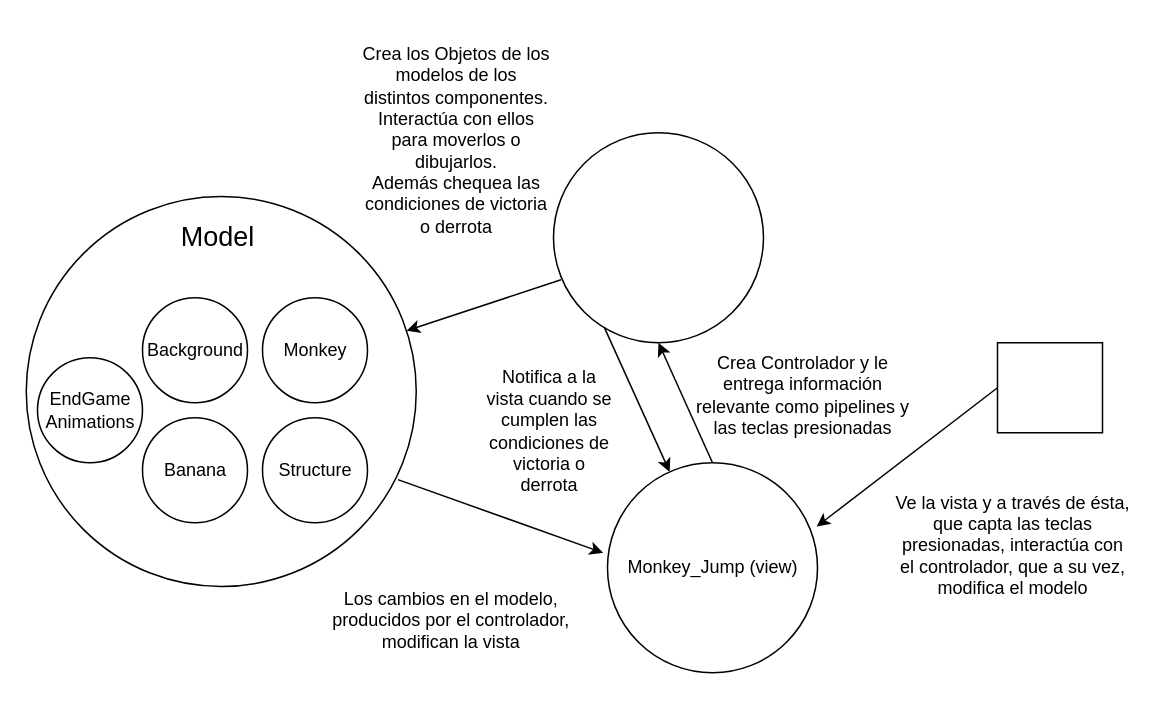
Some shapes in this 1158 by 713 pixel diagram are drawn without their labels. Each missing label, with the centre of its shape:
"Controller" goes at (x=658, y=237).
"User" goes at (x=1049, y=387).
